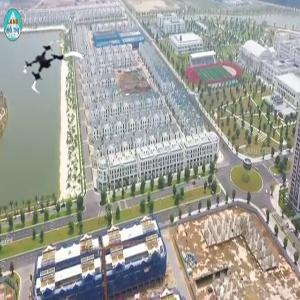drone: (18, 37, 79, 98)
